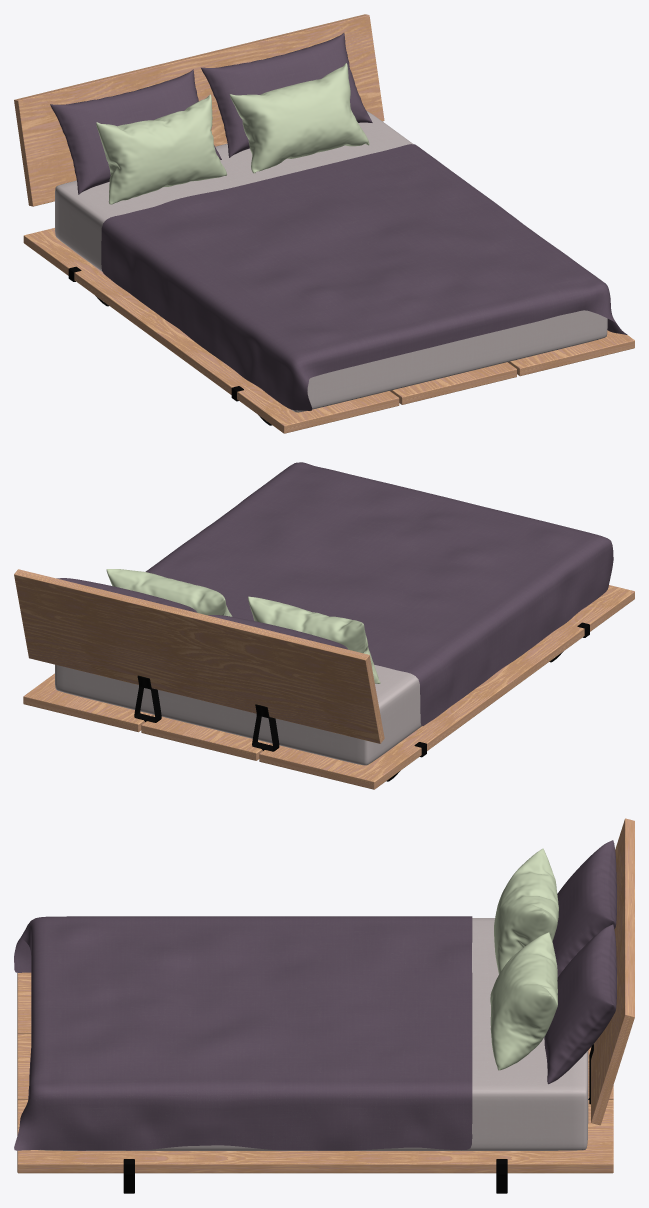
3 renders of one model, top to bottom at view 1: azimuth 30°, elevation 25°; view 2: azimuth 150°, elevation 25°; view 3: azimuth 270°, elevation 25°, orthographic. The views are drawn at different scales.
Parts seen in each view (by area): view 1: Blanket.002_7, Mattress.002_6, Panel_Headboard.002_1, Panel.002_0, Plane.005_15, Plane.004_14, Pillow.004_12, Pillow.005_13; view 2: Blanket.002_7, Panel_Headboard.002_1, Panel.002_0, Mattress.002_6, Plane.004_14, Plane.005_15, Support_Headboard.002_5, Pillow.005_13, Pillow.004_12; view 3: Blanket.002_7, Panel.002_0, Mattress.002_6, Pillow.005_13, Plane.005_15, Panel_Headboard.002_1, Pillow.004_12, Plane.004_14, Support_Side.002_3.
Boxes of the visible parts, box(x1,y1,x2,y2) form: Blanket.002_7: box(101, 144, 627, 410); Mattress.002_6: box(55, 111, 607, 412); Panel_Headboard.002_1: box(14, 14, 384, 206); Panel.002_0: box(23, 228, 634, 433); Plane.005_15: box(229, 63, 369, 173); Plane.004_14: box(96, 94, 226, 204); Pillow.004_12: box(50, 69, 221, 194); Pillow.005_13: box(201, 33, 372, 157); Blanket.002_7: box(145, 462, 613, 725); Panel_Headboard.002_1: box(14, 569, 384, 743); Panel.002_0: box(23, 585, 634, 789); Mattress.002_6: box(55, 664, 421, 765); Plane.004_14: box(248, 596, 380, 683); Plane.005_15: box(106, 569, 232, 616); Support_Headboard.002_5: box(134, 675, 279, 751); Pillow.005_13: box(56, 578, 197, 612); Pillow.004_12: box(208, 615, 347, 649); Blanket.002_7: box(14, 916, 472, 1150); Panel.002_0: box(17, 972, 613, 1173); Mattress.002_6: box(38, 918, 588, 1150); Pillow.005_13: box(544, 924, 616, 1084); Plane.005_15: box(490, 932, 557, 1070); Panel_Headboard.002_1: box(591, 818, 634, 1125); Pillow.004_12: box(552, 840, 616, 976); Plane.004_14: box(494, 848, 558, 974); Support_Side.002_3: box(123, 1159, 507, 1193).
Size of the model in its own units: 1.71 by 0.7987 by 2.28.
Materials: 8 (7 with a texture image).
